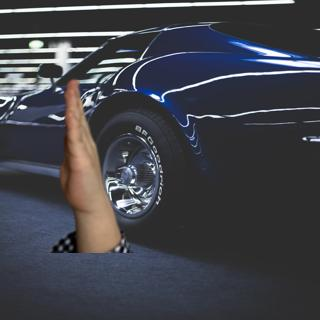RIGHT: (56, 78, 114, 219)
